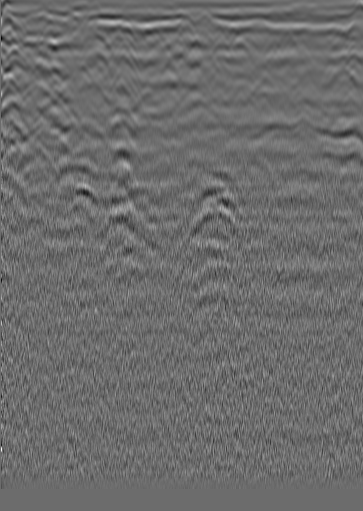가스: (64, 180, 102, 215)
상수: (325, 20, 345, 40)
우수: (177, 19, 197, 39)
